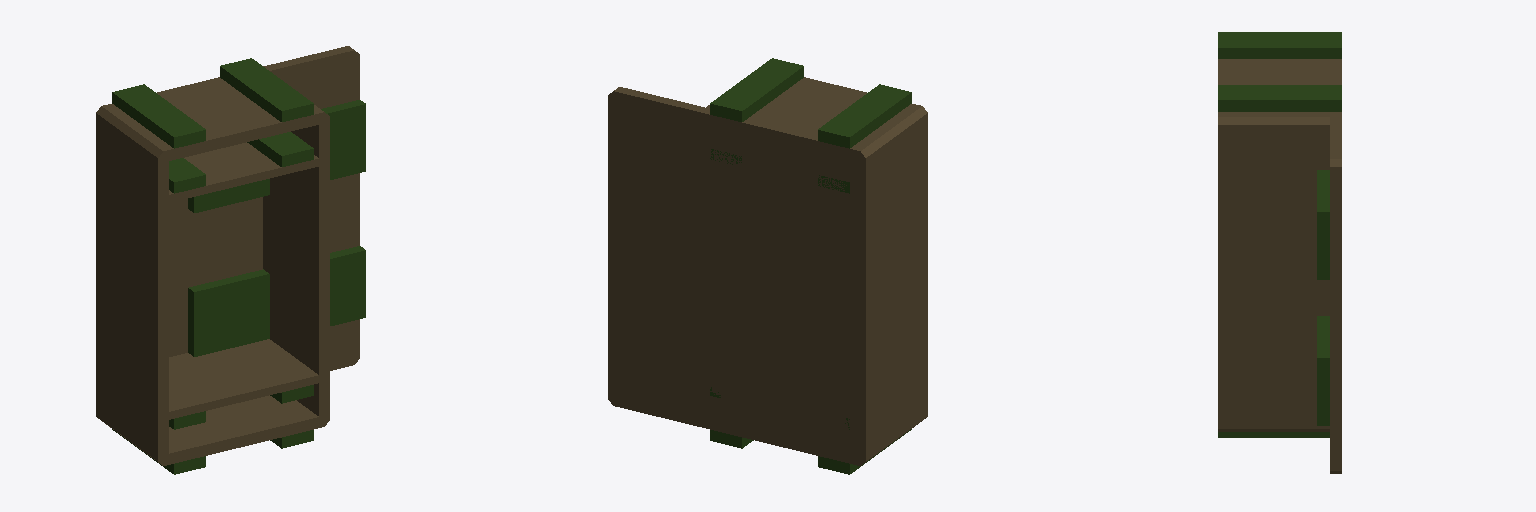
File: game_loot.obj
3 renders of one model, left to right at view 1: azimuth 30°, elevation 25°; view 2: azimuth 150°, elevation 25°; view 3: azimuth 270°, elevation 25°, orthographic.
Parts seen in each view (by area): view 1: large_crate_bottom, small_crate_bottom, large_crate_top, small_crate_top; view 2: large_crate_bottom, small_crate_bottom, large_crate_top, small_crate_top; view 3: large_crate_bottom, small_crate_bottom, small_crate_top, large_crate_top.
Part boxes in pixels (x1,y1,x2,y2): large_crate_bottom: (96, 58, 329, 474); small_crate_bottom: (96, 132, 329, 429); large_crate_top: (188, 46, 365, 370); small_crate_top: (188, 95, 365, 325); large_crate_bottom: (694, 58, 927, 474); small_crate_bottom: (694, 149, 927, 429); large_crate_top: (608, 87, 779, 443); small_crate_top: (608, 137, 779, 397); large_crate_bottom: (1218, 32, 1341, 437); small_crate_bottom: (1218, 169, 1329, 326); small_crate_top: (1317, 210, 1341, 426); large_crate_top: (1317, 112, 1341, 473).
Bounding box in the file's own units: 120 × 150 × 50.